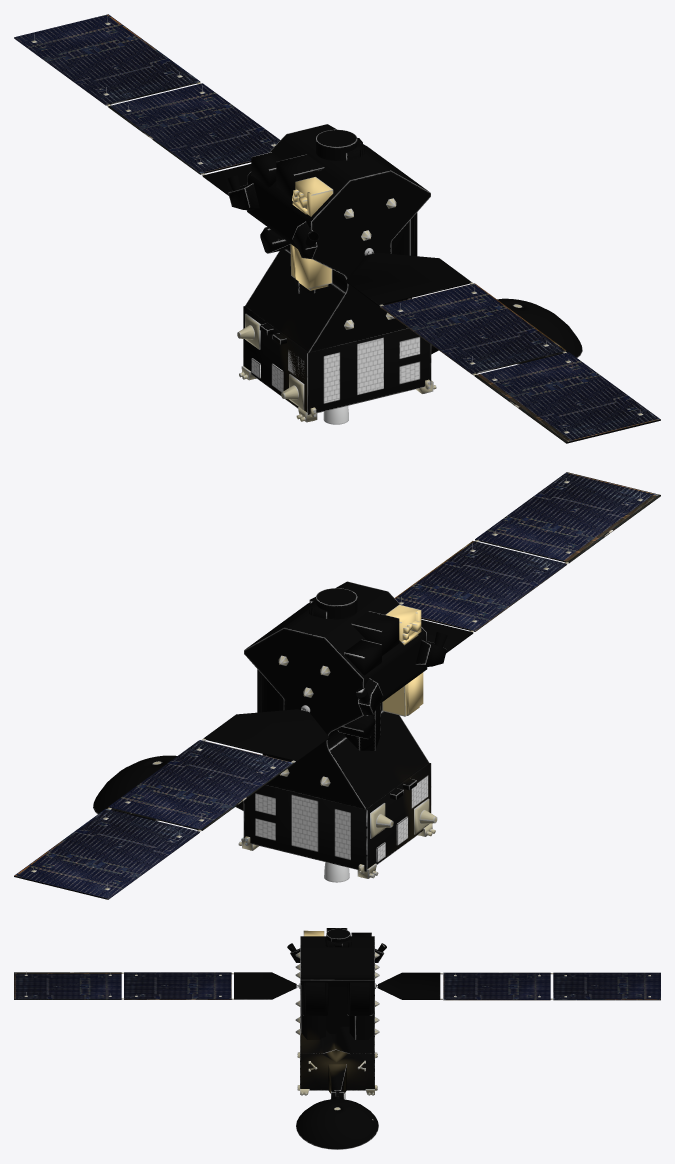
Rendered from tgo.glb.
The picture shows the model from 3 angles, top to bottom: view 1: azimuth 30°, elevation 25°; view 2: azimuth 150°, elevation 25°; view 3: azimuth 270°, elevation 25°; orthographic projection. The views are drawn at different scales.
Visible parts, largest first — view 1: bus, solar, hga; view 2: bus, solar, hga; view 3: solar, bus, hga.
Boxes of the visible parts, box(x1,y1,x2,y2) form: bus: box(227, 124, 438, 424); solar: box(14, 14, 660, 443); hga: box(497, 298, 582, 364); bus: box(235, 581, 447, 882); solar: box(14, 472, 660, 899); hga: box(93, 755, 176, 821); solar: box(14, 971, 660, 1000); bus: box(287, 928, 386, 1099); hga: box(296, 1090, 378, 1149).
Bounding box in the file's own units: 224 × 193 × 689.
Materials: 1 (1 with a texture image).
